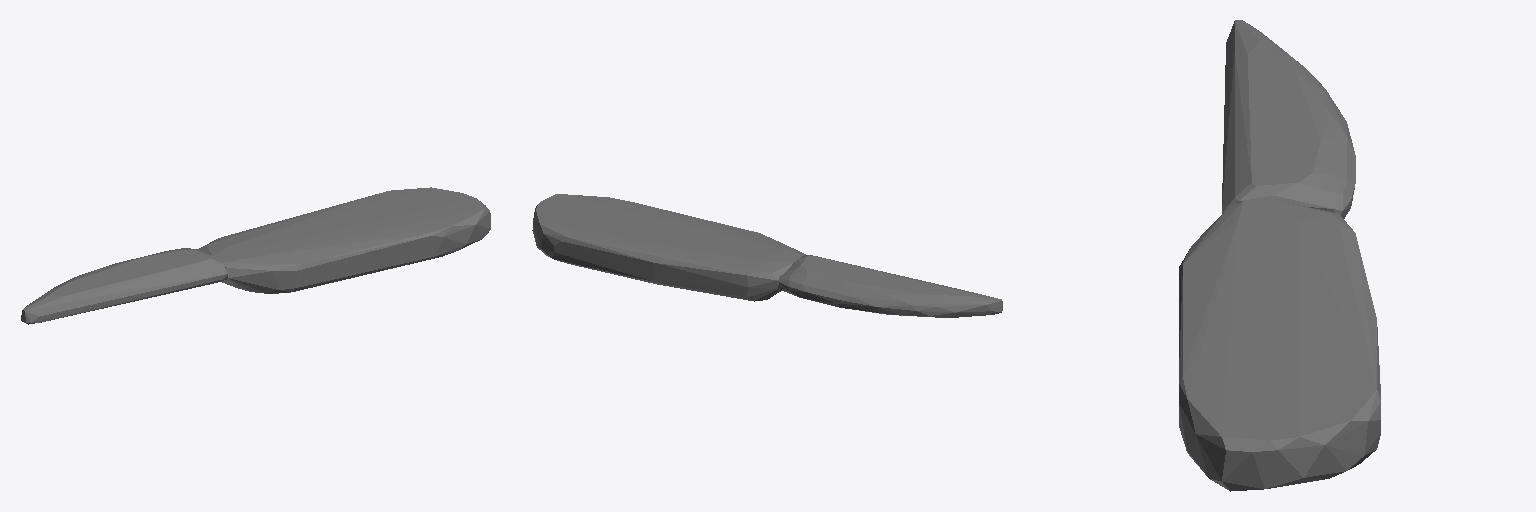
The robot description file, URDF, robot "knife_032":
<?xml version="1.0" ?>
<robot name="knife_032">
  <material name="color">
    <color rgba=".5 .5 .5 1"/>
  </material>

  <link name="base_link">
    <contact>
      <lateral_friction value="1.0"/>
      <rolling_friction value="0.001"/>
      <spinning_friction value="0.001"/>
      <inertia_scaling value="1.0"/>
    </contact>
    <inertial>
      <origin rpy="0 0 0" xyz="0.0218337 -0.000791414 0.00119582"/>
       <mass value="0.1"/>
       <inertia ixx="1" ixy="0" ixz="0" iyy="1" iyz="0" izz="1"/>
    </inertial>

    <visual>
      <origin rpy="0 0 0" xyz="0 0 0"/>
      <geometry>
        <mesh filename="knife_032_vhacd_0_of_2.obj" scale="1 1 1"/>
      </geometry>
      <material name="color"/>
    </visual>
    <visual>
      <origin rpy="0 0 0" xyz="0 0 0"/>
      <geometry>
        <mesh filename="knife_032_vhacd_1_of_2.obj" scale="1 1 1"/>
      </geometry>
      <material name="color"/>
    </visual>

    <collision>
      <origin rpy="0 0 0" xyz="0 0 0"/>
      <geometry>
        <mesh filename="knife_032_vhacd_0_of_2.obj" scale="1 1 1"/>
      </geometry>
    </collision>
    <collision>
      <origin rpy="0 0 0" xyz="0 0 0"/>
      <geometry>
        <mesh filename="knife_032_vhacd_1_of_2.obj" scale="1 1 1"/>
      </geometry>
    </collision>

  </link>
</robot>

--- Render facts (derived) ---
The picture shows the robot from 3 angles, left to right: view 1: azimuth 30°, elevation 25°; view 2: azimuth 150°, elevation 25°; view 3: azimuth 270°, elevation 25°; orthographic projection.
Robot: knife_032 — 1 links, 0 joints (none); root link base_link; default pose: all joints at 0.
Visible links, largest first — view 1: base_link; view 2: base_link; view 3: base_link.
Boxes of the visible links, bbox=[...] form: base_link: bbox=[21, 187, 490, 324]; base_link: bbox=[532, 194, 1002, 317]; base_link: bbox=[1179, 20, 1380, 491].
Size in the robot's own frame: 0.1692 by 0.035 by 0.0127 metres.
2 mesh visuals loaded from 2 distinct referenced files (2 OBJ).